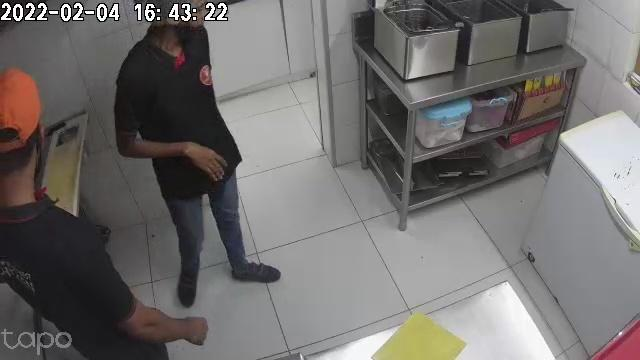no_gloves: (178, 142, 227, 183)
